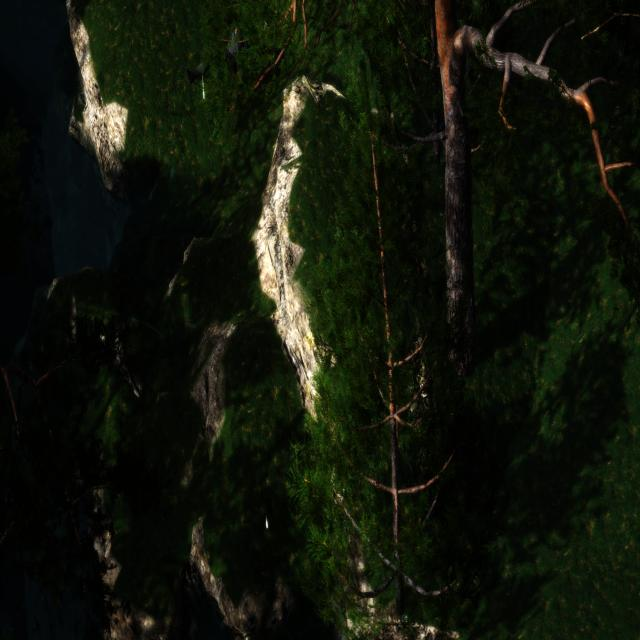Human: (183, 10, 250, 127)
